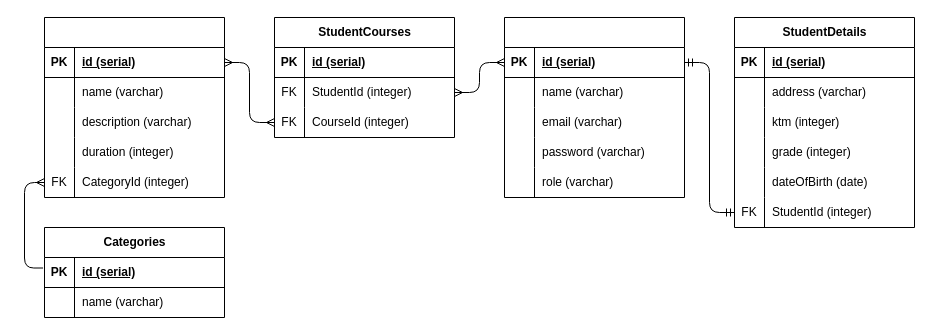
Some shapes in this 932 by 335 pixel diagram are drawn without their labels. Each missing label, with the box of its shape:
Courses: (44, 16, 224, 198)
Students: (504, 16, 684, 198)
